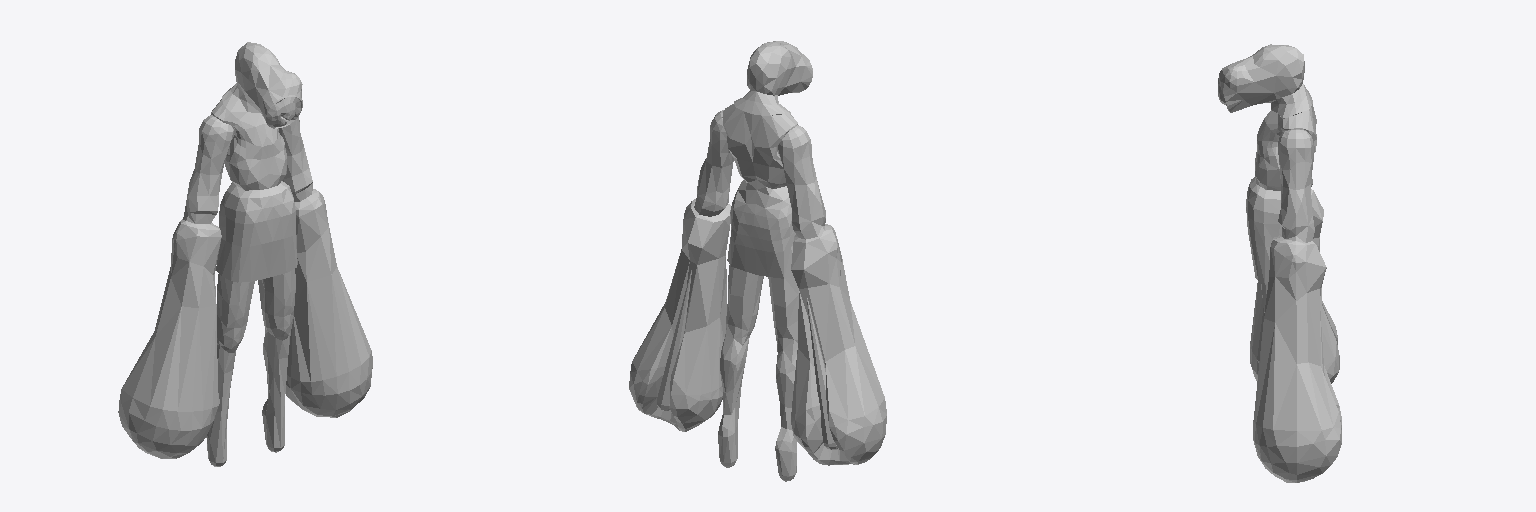
The model's file is closer.obj.
3 renders of one model, left to right at view 1: azimuth 30°, elevation 25°; view 2: azimuth 150°, elevation 25°; view 3: azimuth 270°, elevation 25°, orthographic.
Visible parts, largest first — view 1: Regroup00; view 2: Regroup00; view 3: Regroup00.
Part boxes in pixels (x1,y1,x2,y2): Regroup00: (118,42,372,466); Regroup00: (629,41,886,481); Regroup00: (1218,44,1341,482).
Size of the model in its own units: 18.23 by 30.18 by 8.13.